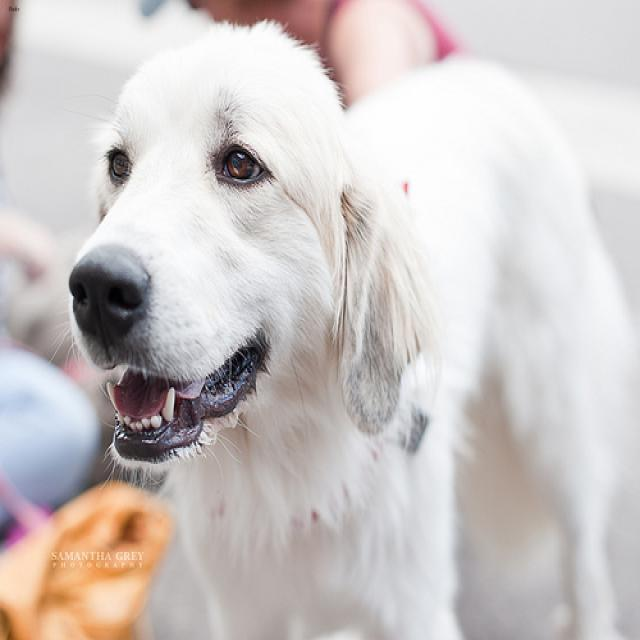dog-great_pyrenees: (49, 2, 637, 637)
